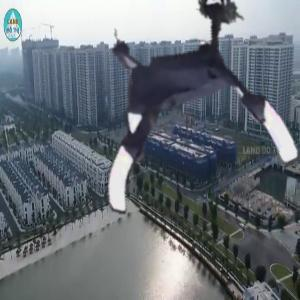drone: (69, 5, 284, 220)
